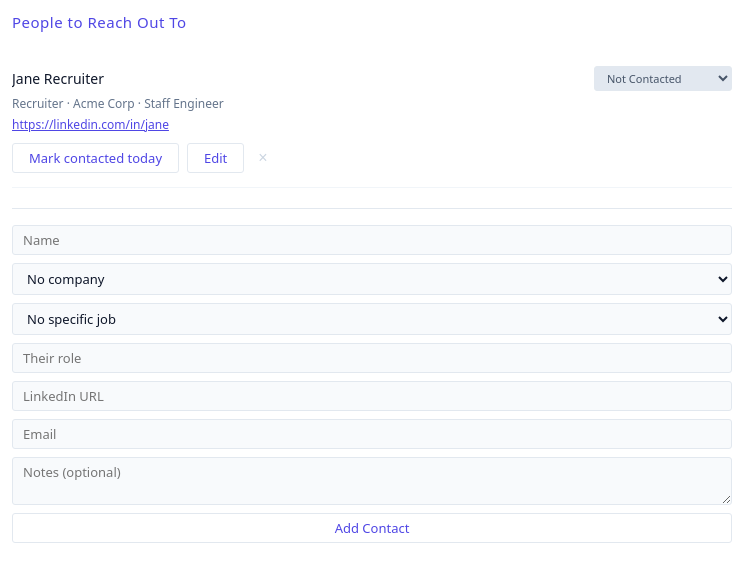
Test: ContactsList › marks a contact as contacted today
The image size is (749, 581).
Expected: the text "Jane Recruiter" is shown, [12,69,104,88]
Click the button "Mark contacted today" at (96, 158), box [12,143,179,173]
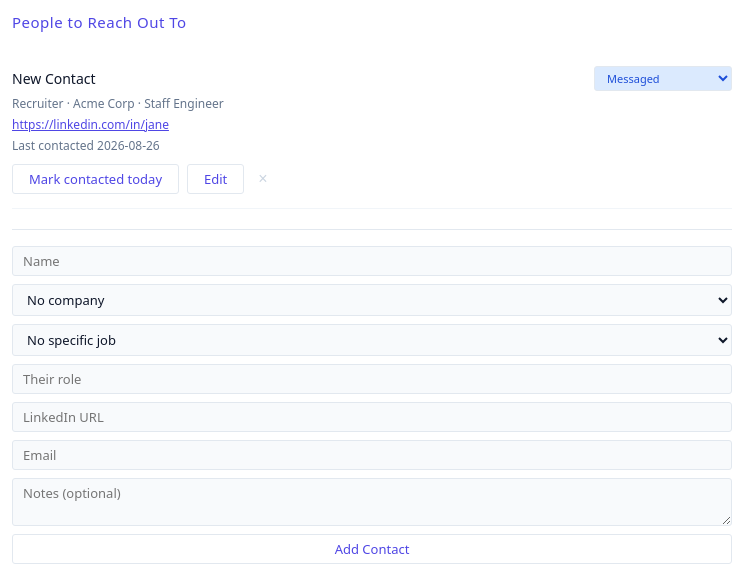
Now the text "Last contacted 2026-08-26" is shown, box [12,137,160,154]
